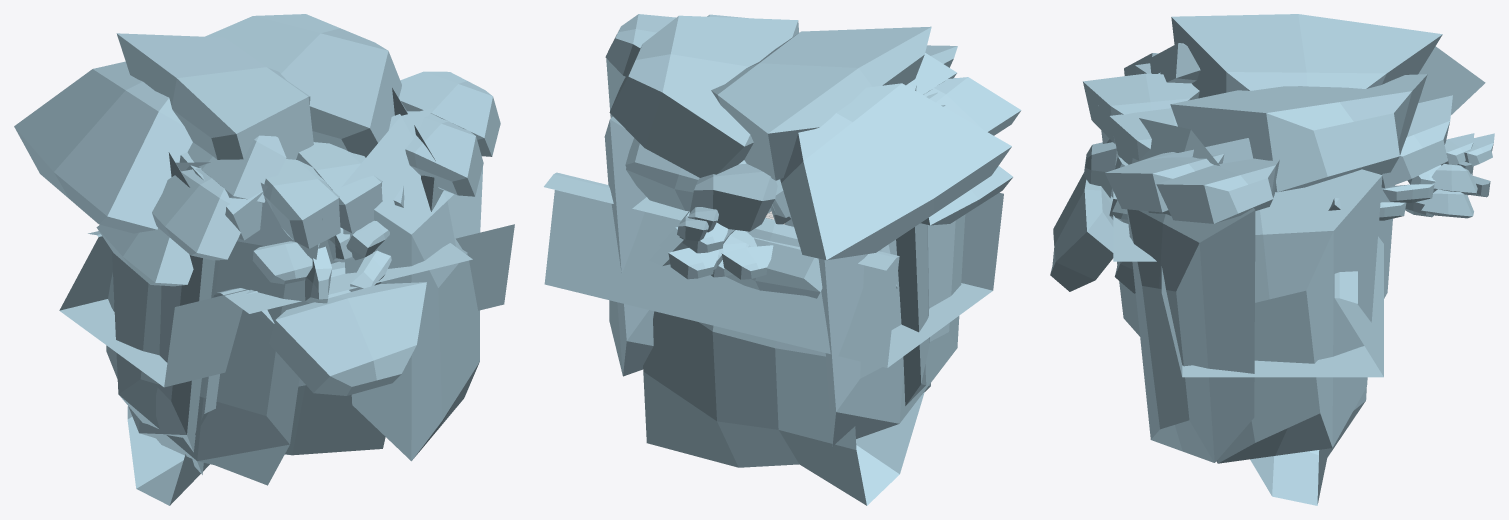
File: grotte.glb
The picture shows the model from 3 angles, left to right: view 1: azimuth 30°, elevation 25°; view 2: azimuth 150°, elevation 25°; view 3: azimuth 270°, elevation 25°; orthographic projection. The views are drawn at different scales.
Parts seen in each view (by area): view 1: grotte; view 2: grotte; view 3: grotte.
Boxes of the visible parts, <box> form: grotte: <box>14,14,514,505</box>; grotte: <box>544,14,1021,505</box>; grotte: <box>1050,14,1494,505</box>.
Size of what is drawn, in the model's own units: 87.18 by 88.42 by 88.91.
